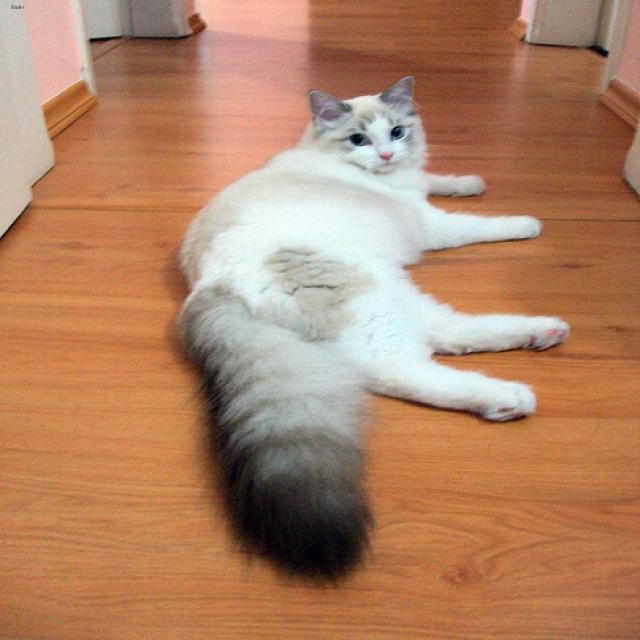Ragdoll: (306, 74, 415, 172)
